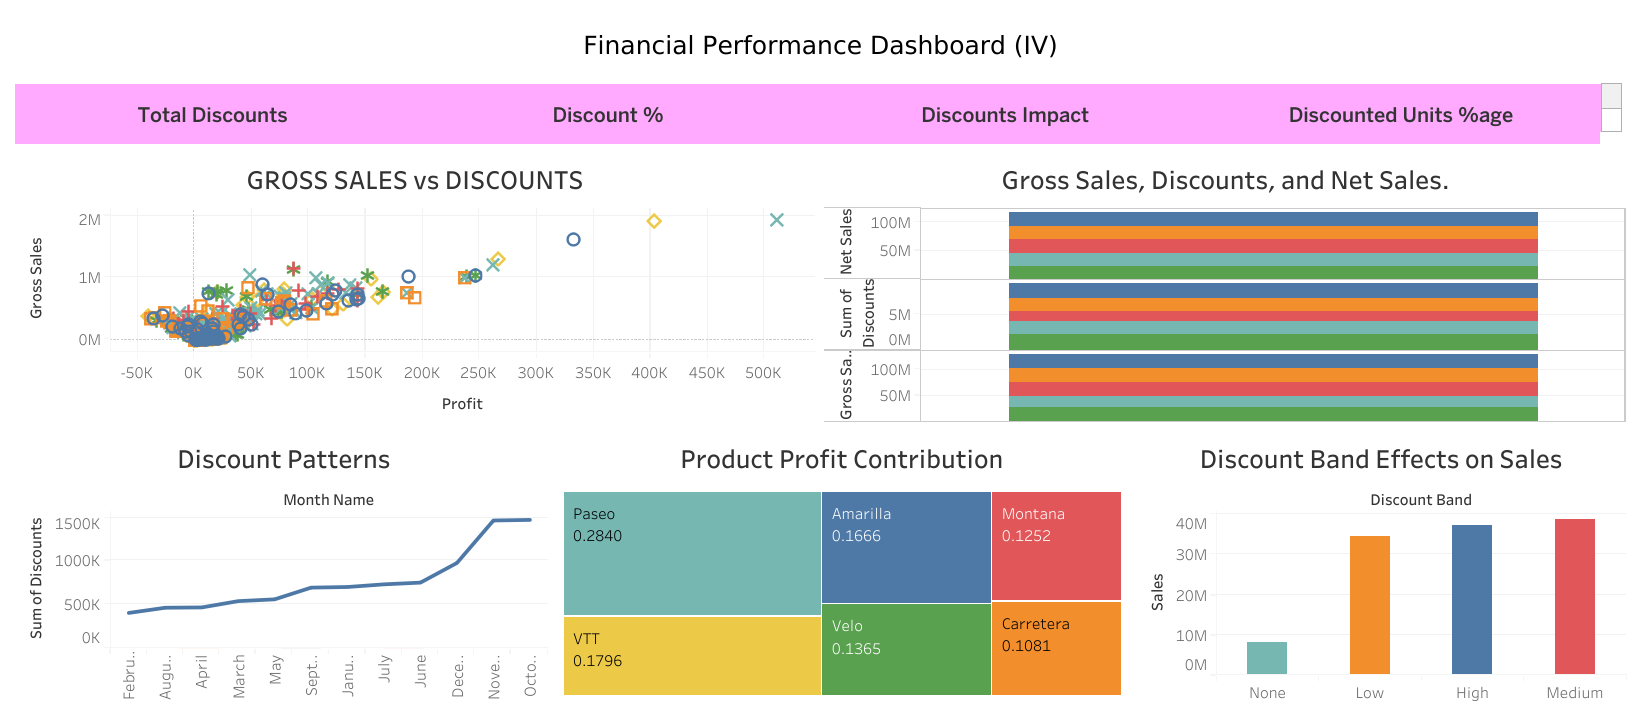

This screenshot's page, from the dashboard's own definition file:
{"tool":"tableau","page":{"name":"Dashboard 4","canvas":[1000,1000],"units":"permille","ordinal":3},"visuals":[{"type":"text","box":[4.8,10,893.8,97.3]},{"type":"legend","title":"Product Profit Contribution","param":"[federated.13n6ggl16nxl9d16uggdn08ev3bk].[none:Product :nk]","box":[898.6,10,96.6,194.8]},{"type":"worksheet","title":"KPI 4","mark":"Text","cols":["Calculation_1421709216038924","Calculation_1421709216063502","Calculation_1421709216165904","Calculation_1421709216202770"],"box":[4.8,107.3,893.8,97.4]},{"type":"worksheet","title":"GROSS SALES vs DISCOUNTS","mark":"Automatic","rows":["Gross Sales "],"cols":["Profit "],"box":[4.8,204.7,446.6,392.7]},{"type":"worksheet","title":"Gross Sales, Discounts, and Net Sales.","mark":"Automatic","rows":["Calculation_0104221697933321","Discounts ","Gross Sales "],"box":[451.4,204.7,447.2,392.7]},{"type":"worksheet","title":" Discount Patterns","mark":"Line","rows":["Discounts "],"cols":["Month Name "],"box":[4.8,597.3,299.3,392.7]},{"type":"worksheet","title":"Product Profit Contribution","mark":"Automatic","box":[304.2,597.3,318.6,392.7]},{"type":"worksheet","title":"Discount Band Effects on Sales","mark":"Bar","rows":["Sales "],"cols":["Discount Band "],"box":[622.8,597.3,275.8,392.7]}]}

Visuals, with their boxes on the dashboard's canvas, which has no fixed pixel size, in thousandths of its width and height (x1, y1, x2, y2). These are canvas units, not pixel positions in the 1640x716 screenshot, which may show the page scaled, cropped or inside an application window:
text: left=5, top=10, right=899, bottom=107
"Product Profit Contribution" legend: left=899, top=10, right=995, bottom=205
"KPI 4" worksheet (Text marks): left=5, top=107, right=899, bottom=205
"GROSS SALES vs DISCOUNTS" worksheet: left=5, top=205, right=451, bottom=597
"Gross Sales, Discounts, and Net Sales." worksheet: left=451, top=205, right=899, bottom=597
" Discount Patterns" worksheet (Line marks): left=5, top=597, right=304, bottom=990
"Product Profit Contribution" worksheet: left=304, top=597, right=623, bottom=990
"Discount Band Effects on Sales" worksheet (Bar marks): left=623, top=597, right=899, bottom=990
